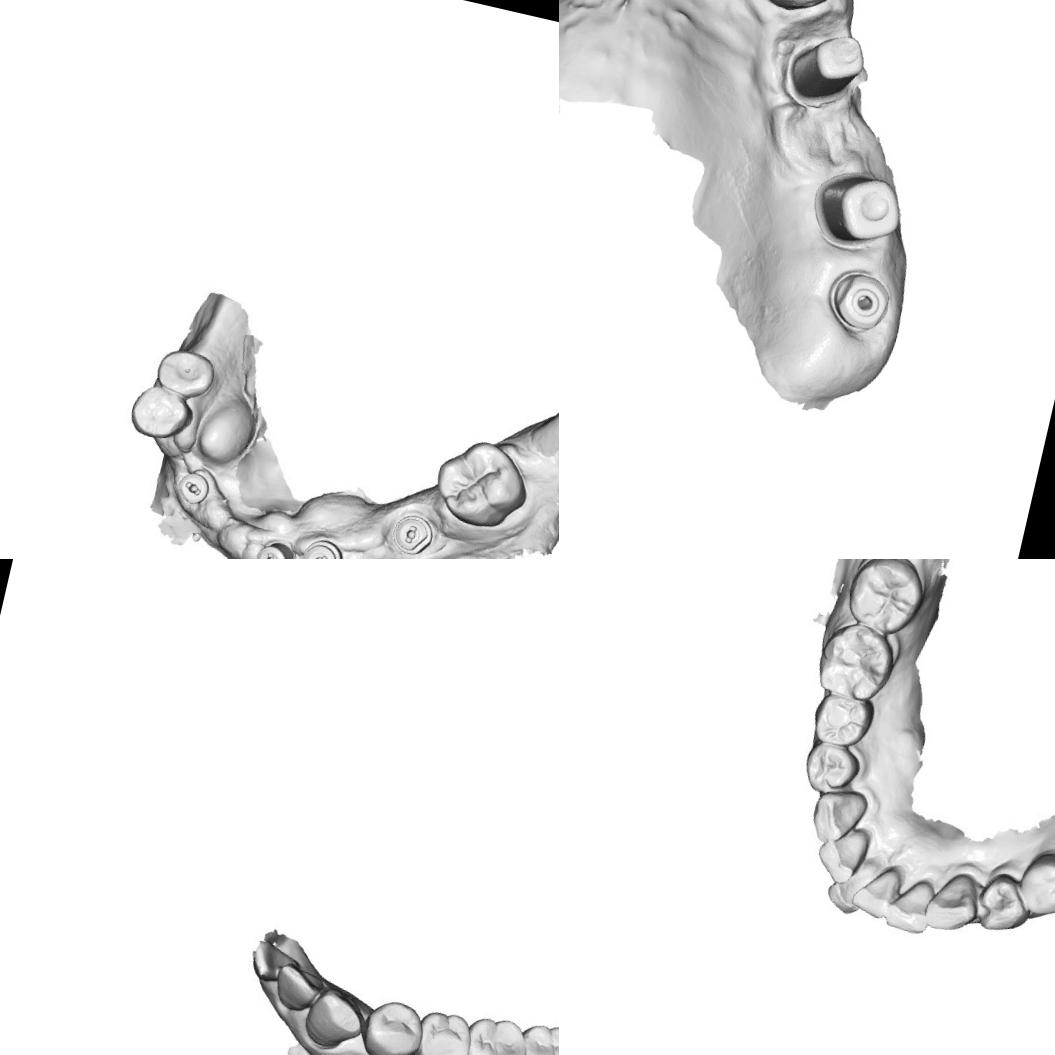abutment: (808, 163, 909, 258), (784, 22, 874, 110)
canine: (298, 981, 372, 1055), (808, 785, 872, 850), (924, 866, 984, 931)
implant: (821, 265, 896, 340)
implant_minus: (387, 508, 438, 559), (172, 466, 215, 510), (297, 533, 346, 559), (252, 535, 298, 559)
incisor: (819, 856, 881, 922), (268, 957, 332, 1020), (242, 932, 302, 988), (887, 879, 938, 938), (858, 862, 904, 924), (819, 824, 870, 876)
molar: (426, 430, 538, 537), (816, 622, 896, 703), (843, 559, 925, 636), (456, 1010, 532, 1055), (512, 1017, 559, 1055)
premolar: (124, 378, 199, 447), (357, 992, 428, 1055), (152, 343, 220, 403), (800, 734, 861, 794), (978, 874, 1035, 935), (407, 1005, 476, 1055), (812, 693, 866, 744), (1019, 856, 1055, 913)
